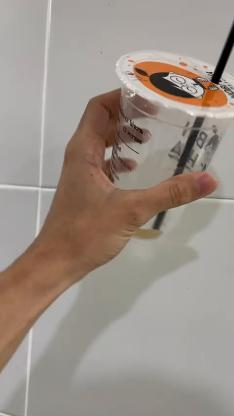Plastic Cup: (106, 52, 234, 246)
